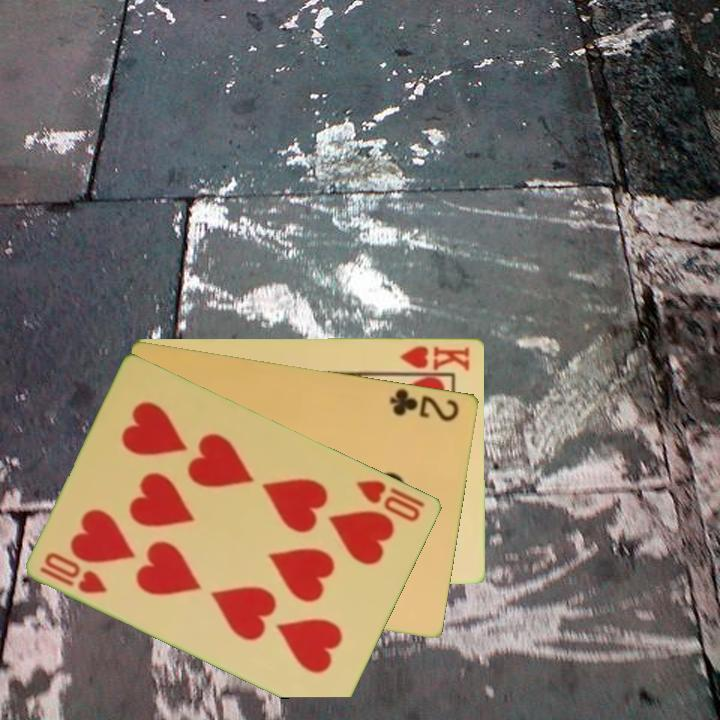10h: (353, 476, 429, 525), (37, 548, 111, 597)
2c: (387, 385, 463, 424)
Kh: (391, 342, 473, 375)
